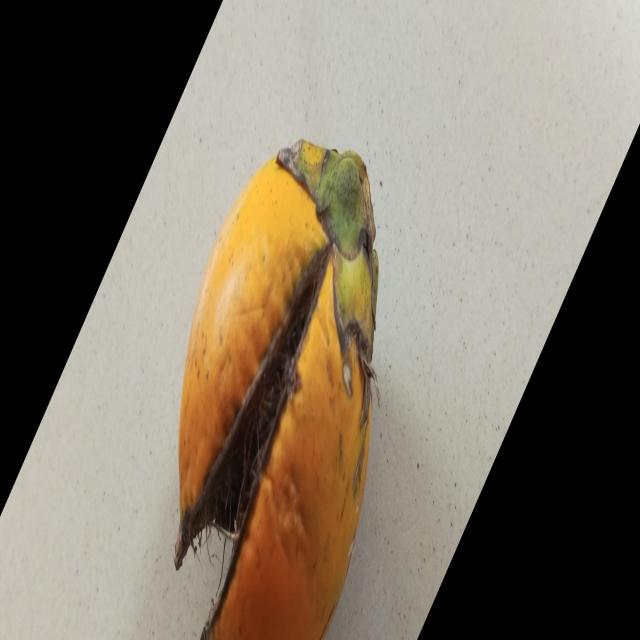damaged: (174, 140, 379, 640)
